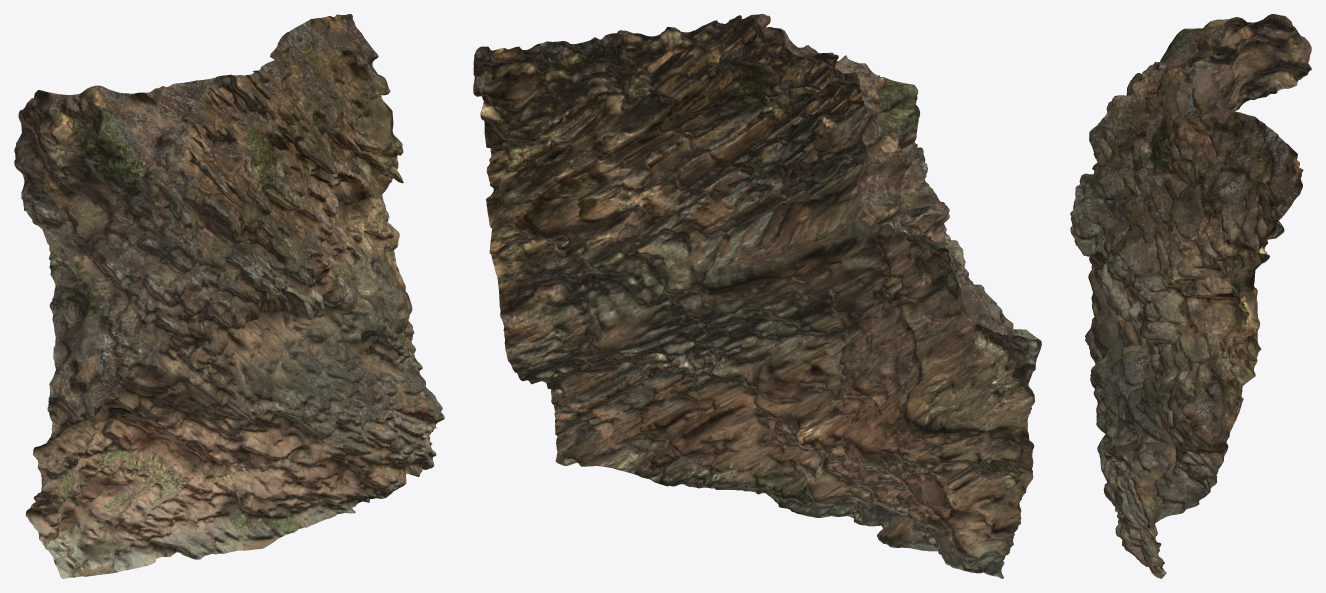
Rendered from mountainside.glb.
3 renders of one model, left to right at view 1: azimuth 30°, elevation 25°; view 2: azimuth 150°, elevation 25°; view 3: azimuth 270°, elevation 25°, orthographic. The views are drawn at different scales.
Visible parts, largest first — view 1: mountainside; view 2: mountainside; view 3: mountainside.
Boxes of the visible parts, x1,y1,x2,y2 form: mountainside: (14, 14, 444, 578); mountainside: (473, 14, 1041, 578); mountainside: (1070, 14, 1311, 578).
Size of the model in its own units: 10.21 by 10.52 by 5.25.
Materials: 1 (1 with a texture image).
